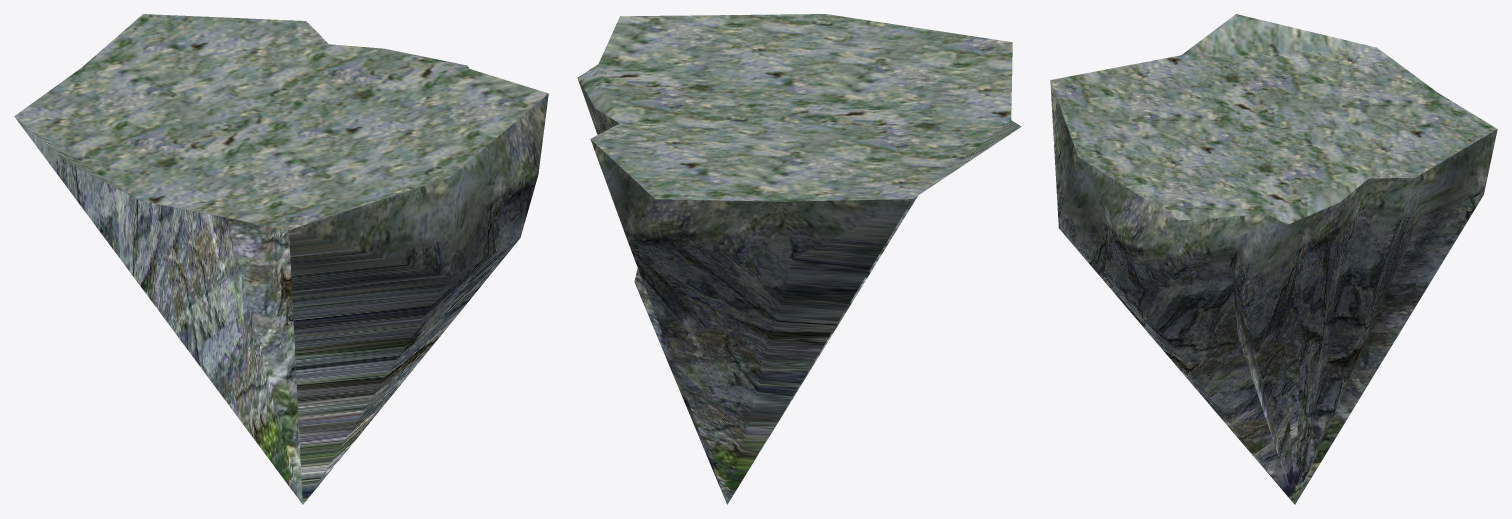
The model's file is inder98.obj.
The picture shows the model from 3 angles, left to right: view 1: azimuth 30°, elevation 25°; view 2: azimuth 150°, elevation 25°; view 3: azimuth 270°, elevation 25°; orthographic projection. The views are drawn at different scales.
Parts seen in each view (by area): view 1: inder98; view 2: inder98; view 3: inder98.
Boxes of the visible parts, bbox=[...] form: inder98: bbox=[14, 14, 548, 504]; inder98: bbox=[577, 14, 1021, 504]; inder98: bbox=[1050, 14, 1497, 504].
Size of the model in its own units: 375 by 344 by 371.
